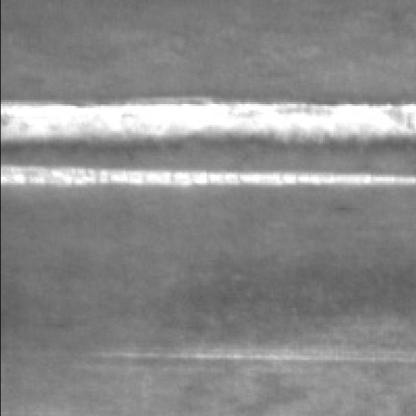scratches: (0, 98, 412, 150), (0, 165, 412, 194), (81, 348, 412, 368)
